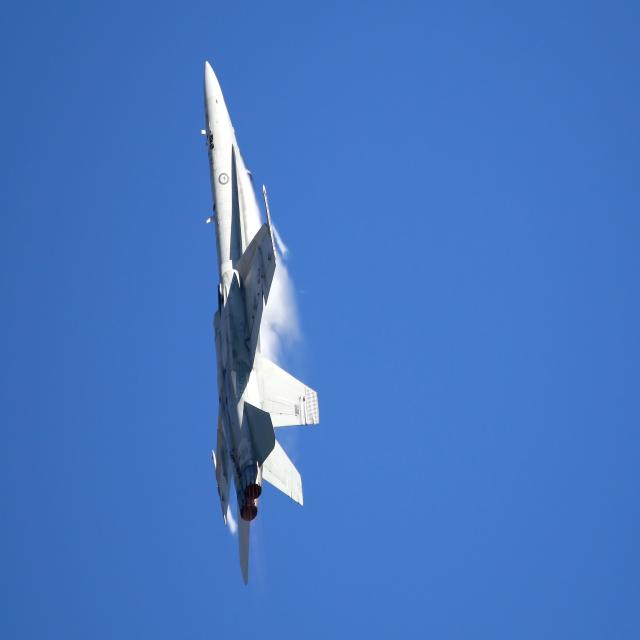MIL_Plane: (201, 60, 320, 586)
